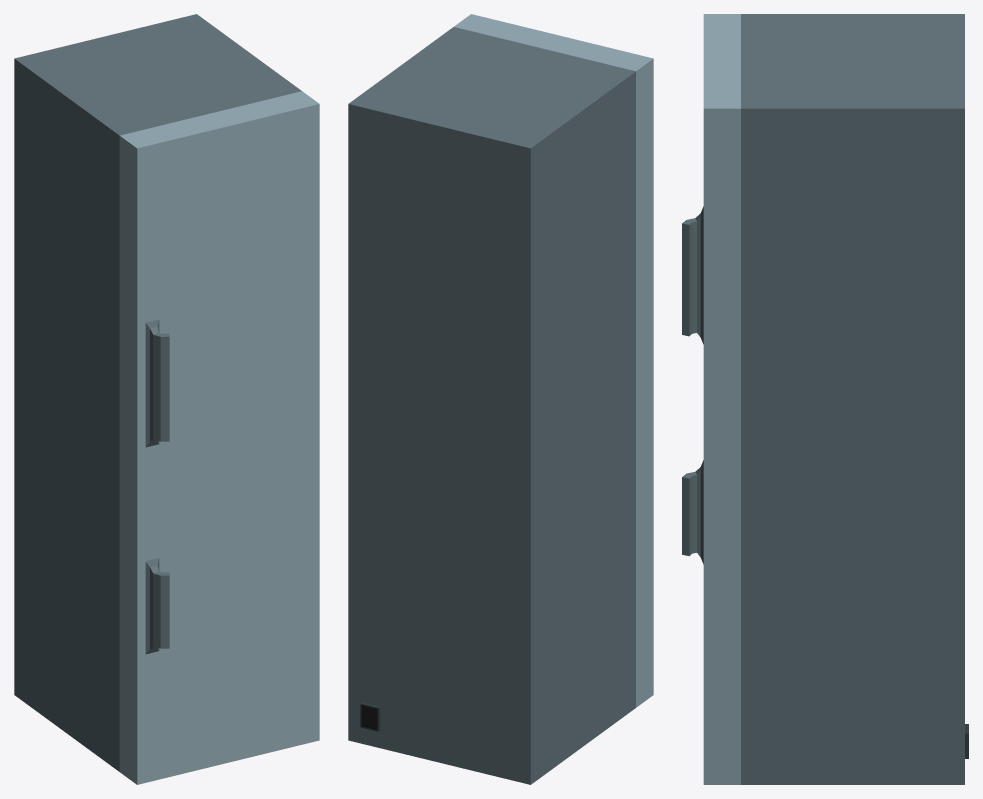
The model's file is Firdge.glb.
3 views of the same model, side by side, from view 1: azimuth 30°, elevation 25°; view 2: azimuth 150°, elevation 25°; view 3: azimuth 270°, elevation 25° (orthographic). The views are drawn at different scales.
Visible parts, largest first — view 1: Low Poly Firdge, KA-F600_Fridge_V1_DoorInDoor, KA-F600_Fridge_V1_Door; view 2: Low Poly Firdge, KA-F600_Fridge_V1_DoorInDoor, KA-F600_Fridge_V1_Door; view 3: Low Poly Firdge, KA-F600_Fridge_V1_DoorInDoor, KA-F600_Fridge_V1_Door.
Part boxes in pixels (<box>): Low Poly Firdge: <box>14,14,301,771</box>; KA-F600_Fridge_V1_DoorInDoor: <box>121,92,319,530</box>; KA-F600_Fridge_V1_Door: <box>119,91,319,784</box>; Low Poly Firdge: <box>348,27,635,784</box>; KA-F600_Fridge_V1_DoorInDoor: <box>456,14,653,451</box>; KA-F600_Fridge_V1_Door: <box>454,25,653,707</box>; Low Poly Firdge: <box>741,14,968,784</box>; KA-F600_Fridge_V1_DoorInDoor: <box>682,14,737,514</box>; KA-F600_Fridge_V1_Door: <box>682,14,740,784</box>.
Bounding box in the file's own units: 0.6 × 2 × 0.7687.
Materials: 1 (1 with a texture image).
